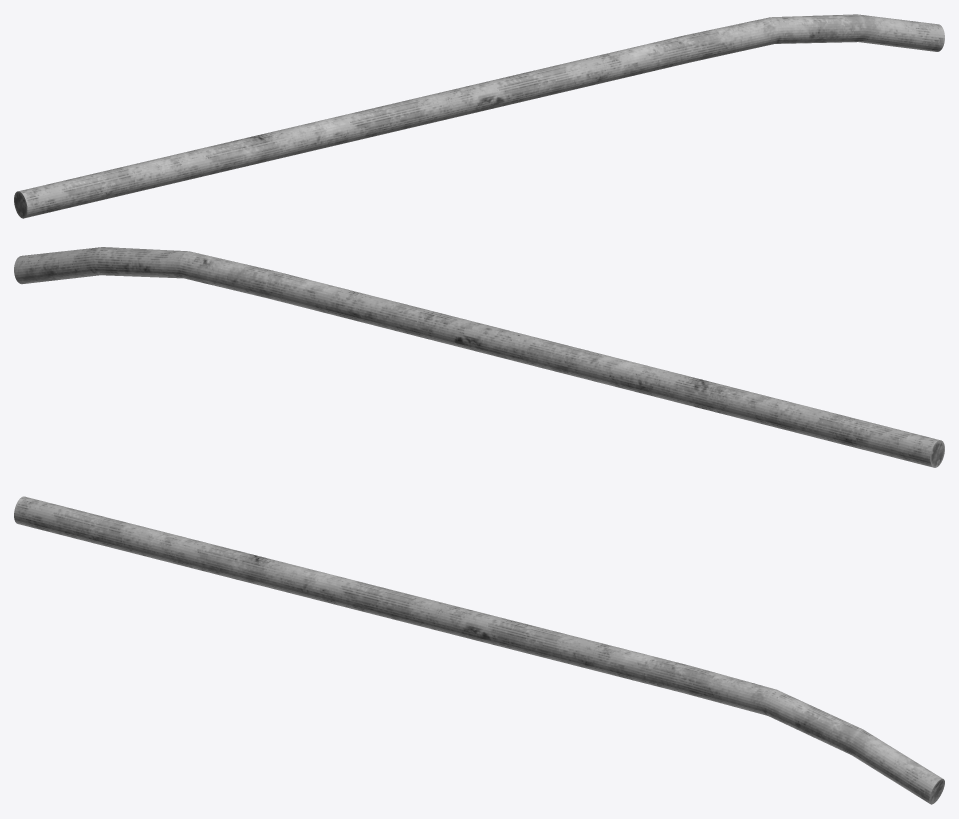
The model's file is Bathroom_Pipe2.fbx.
3 renders of one model, top to bottom at view 1: azimuth 30°, elevation 25°; view 2: azimuth 150°, elevation 25°; view 3: azimuth 330°, elevation 25°, orthographic.
Parts seen in each view (by area): view 1: Cylinder.012; view 2: Cylinder.012; view 3: Cylinder.012.
Part boxes in pixels (x1,y1,x2,y2): Cylinder.012: (14,14,944,218); Cylinder.012: (14,247,944,467); Cylinder.012: (14,496,944,804).
Bounding box in the file's own units: 352 × 26.86 × 15.62.
Materials: 1 (1 with a texture image).
